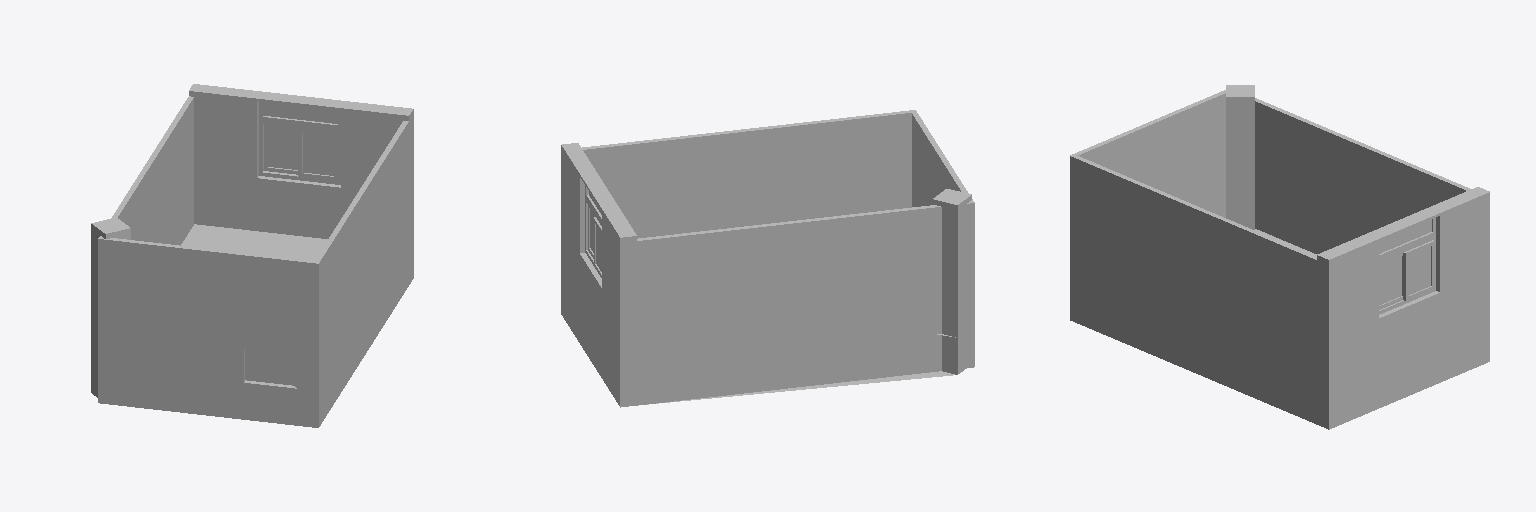
3 renders of one model, left to right at view 1: azimuth 30°, elevation 25°; view 2: azimuth 150°, elevation 25°; view 3: azimuth 270°, elevation 25°, orthographic.
Parts seen in each view (by area): view 1: Mesh3 Group3 Model, Mesh2 Group2 Model, Mesh1 Group1 Model, Mesh4 Group4 Model, Mesh5 Group5 Model, Mesh6 Group6 Model, Mesh8 Glazing Window_Sliding_Casement_14 Window_Sliding_7_1 Grou, Mesh11 Glazing2 Window_Sliding_Casement_14_1 Window_Sliding_7_1 , Mesh7 Window_Sliding_Main_Frame_7 Window_Sliding_7_1 Group7 Mode, Mesh15 Glazing4 Window_Fixed_2_1 Group7 Model, Mesh10 Window_Sliding_Casement_14 Window_Sliding_7_1 Group7 Mode; view 2: Mesh5 Group5 Model, Mesh4 Group4 Model, Mesh2 Group2 Model, Mesh1 Group1 Model, Mesh6 Group6 Model, Mesh3 Group3 Model; view 3: Mesh4 Group4 Model, Mesh2 Group2 Model, Mesh5 Group5 Model, Mesh3 Group3 Model, Mesh1 Group1 Model, Mesh6 Group6 Model, Mesh9 Glazing1 Window_Sliding_Casement_14 Window_Sliding_7_1 Gro, Mesh12 Glazing3 Window_Sliding_Casement_14_1 Window_Sliding_7_1 , Mesh13 Window_Sliding_Casement_14_1 Window_Sliding_7_1 Group7 Mo, Mesh16 Glazing5 Window_Fixed_2_1 Group7 Model.
Boxes of the visible parts, x1,y1,x2,y2 form: Mesh3 Group3 Model: [98, 237, 319, 390]; Mesh2 Group2 Model: [189, 84, 413, 284]; Mesh1 Group1 Model: [91, 224, 408, 427]; Mesh4 Group4 Model: [315, 121, 408, 387]; Mesh5 Group5 Model: [100, 96, 193, 245]; Mesh6 Group6 Model: [91, 217, 130, 360]; Mesh8 Glazing Window_Sliding_Casement_14 Window_Sliding_7_1 Grou: [303, 133, 333, 175]; Mesh11 Glazing2 Window_Sliding_Casement_14_1 Window_Sliding_7_1 : [268, 127, 297, 169]; Mesh7 Window_Sliding_Main_Frame_7 Window_Sliding_7_1 Group7 Mode: [259, 119, 340, 184]; Mesh15 Glazing4 Window_Fixed_2_1 Group7 Model: [263, 103, 337, 123]; Mesh10 Window_Sliding_Casement_14 Window_Sliding_7_1 Group7 Mode: [298, 128, 337, 180]; Mesh5 Group5 Model: [637, 203, 968, 367]; Mesh4 Group4 Model: [582, 110, 911, 238]; Mesh2 Group2 Model: [561, 143, 636, 407]; Mesh1 Group1 Model: [637, 330, 974, 405]; Mesh6 Group6 Model: [932, 189, 971, 337]; Mesh3 Group3 Model: [910, 110, 974, 330]; Mesh4 Group4 Model: [1074, 156, 1316, 386]; Mesh2 Group2 Model: [1317, 187, 1489, 429]; Mesh5 Group5 Model: [1255, 98, 1470, 253]; Mesh3 Group3 Model: [1070, 90, 1225, 284]; Mesh1 Group1 Model: [1070, 229, 1316, 424]; Mesh6 Group6 Model: [1226, 85, 1254, 229]; Mesh9 Glazing1 Window_Sliding_Casement_14 Window_Sliding_7_1 Gro: [1380, 256, 1401, 304]; Mesh12 Glazing3 Window_Sliding_Casement_14_1 Window_Sliding_7_1 : [1409, 246, 1430, 294]; Mesh13 Window_Sliding_Casement_14_1 Window_Sliding_7_1 Group7 Mo: [1403, 240, 1434, 300]; Mesh16 Glazing5 Window_Fixed_2_1 Group7 Model: [1379, 220, 1431, 253].
Size of the model in its own units: 7.19 by 3.2 by 7.19.